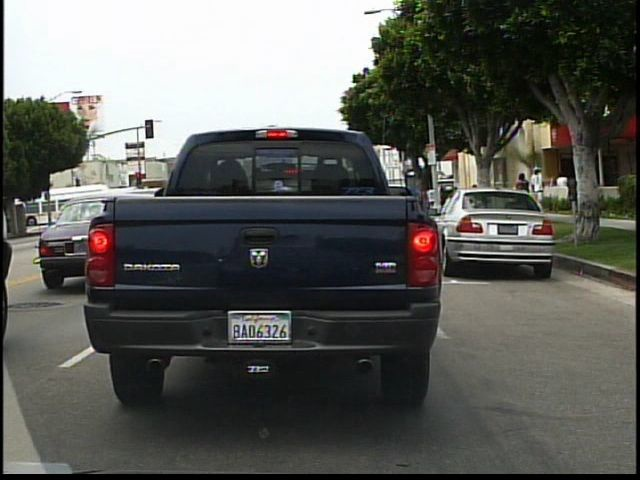person: (553, 169, 573, 214), (473, 177, 493, 220)
